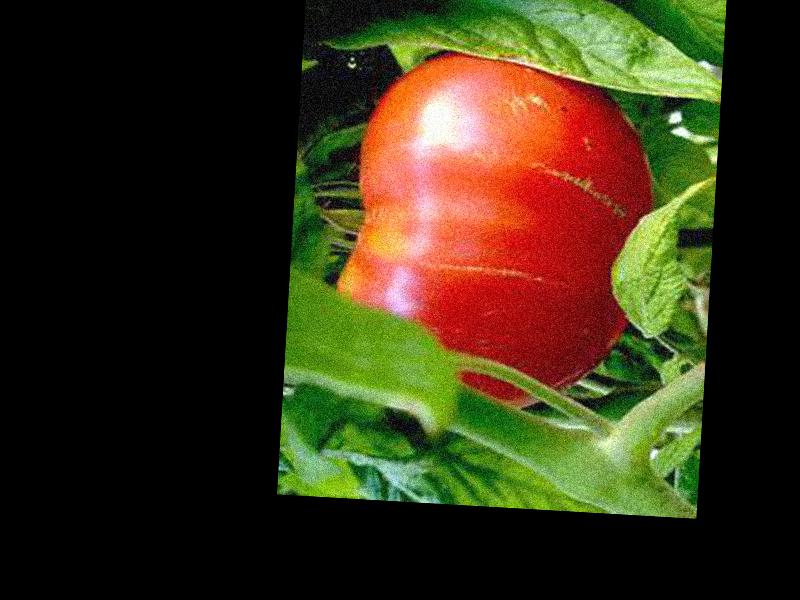Tomato: (329, 43, 659, 413)
